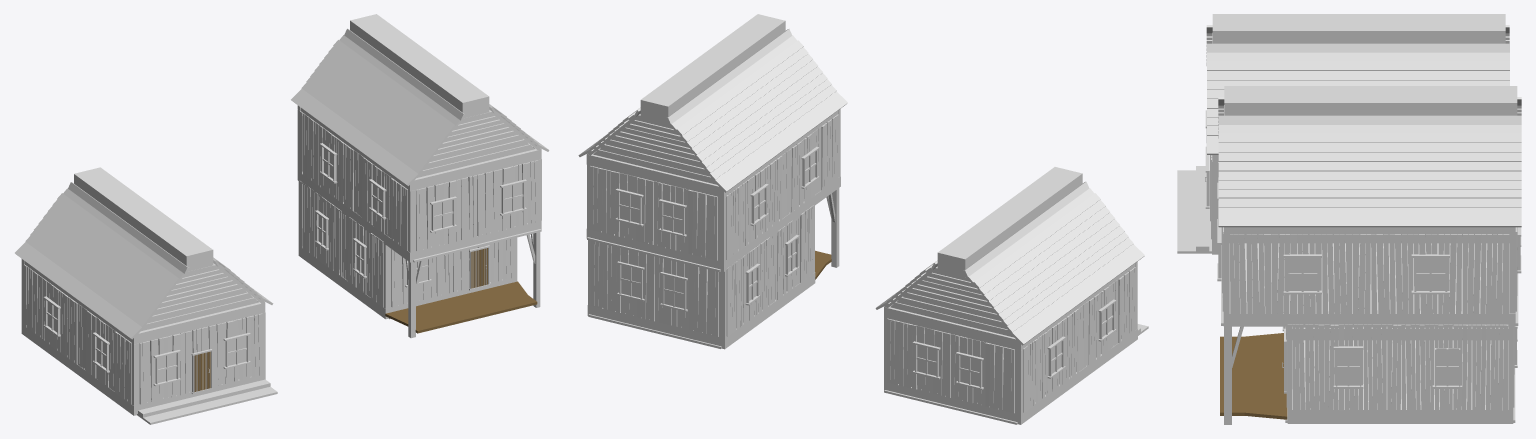
File: Shack Houses2.fbx
The picture shows the model from 3 angles, left to right: view 1: azimuth 30°, elevation 25°; view 2: azimuth 150°, elevation 25°; view 3: azimuth 270°, elevation 25°; orthographic projection. The views are drawn at different scales.
Parts seen in each view (by area): view 1: Cube.002, Cube.001; view 2: Cube.002, Cube.001; view 3: Cube.002, Cube.001.
Boxes of the visible parts, x1,y1,x2,y2 form: Cube.002: [291, 14, 549, 338]; Cube.001: [15, 167, 277, 424]; Cube.002: [578, 14, 847, 349]; Cube.001: [875, 167, 1148, 424]; Cube.002: [1217, 86, 1521, 424]; Cube.001: [1177, 14, 1509, 254].
Size of the model in its own units: 8979 by 4626 by 4871.
